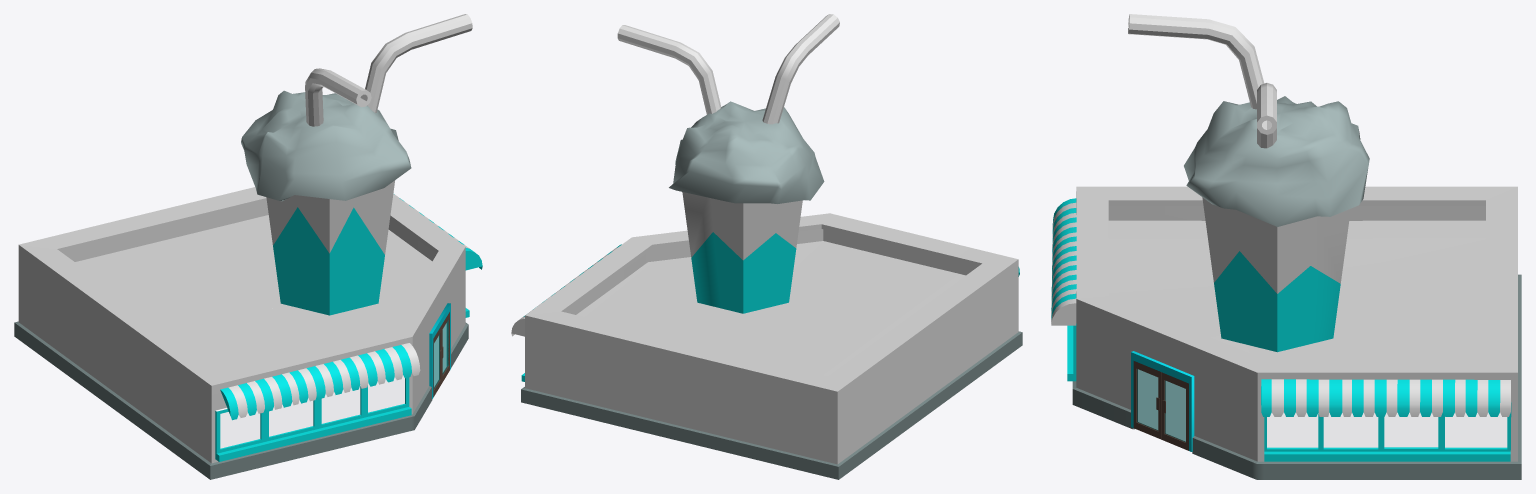
File: Building_SodaStore_Mod.fbx
The picture shows the model from 3 angles, left to right: view 1: azimuth 30°, elevation 25°; view 2: azimuth 150°, elevation 25°; view 3: azimuth 270°, elevation 25°; orthographic projection. The views are drawn at different scales.
Visible parts, largest first — view 1: Sodapop_Diner, DoorF_3; view 2: Sodapop_Diner; view 3: Sodapop_Diner, DoorF_3.
Boxes of the visible parts, box(x1,y1,x2,y2) form: Sodapop_Diner: box(14, 14, 482, 479); DoorF_3: box(429, 303, 450, 399); Sodapop_Diner: box(511, 14, 1022, 479); Sodapop_Diner: box(1051, 14, 1521, 479); DoorF_3: box(1131, 351, 1194, 451).
Bounding box in the file's own units: 8.93 × 7.91 × 8.97.
